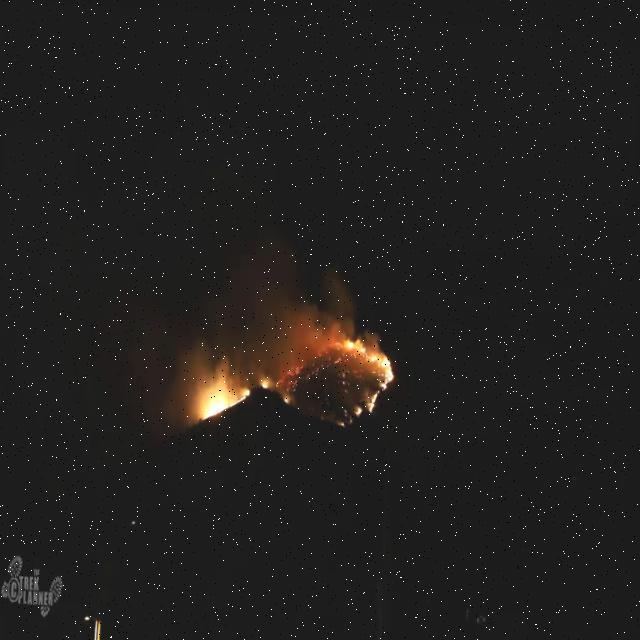Fire: (342, 334, 396, 384), (200, 384, 251, 424), (356, 386, 380, 415), (262, 372, 272, 387), (284, 390, 294, 400)
